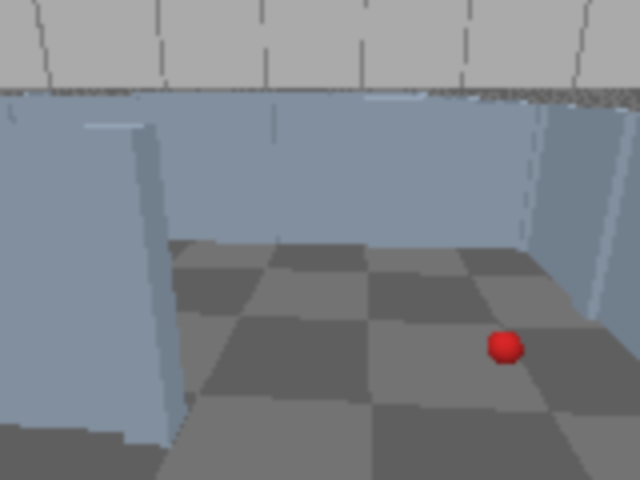puck: (482, 321, 528, 377)
